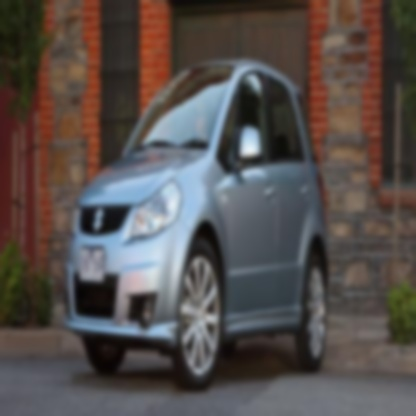Vehicle: (62, 56, 332, 395)
